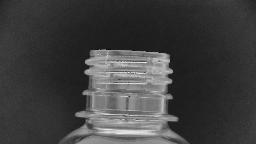No Cap: (72, 46, 182, 126)
